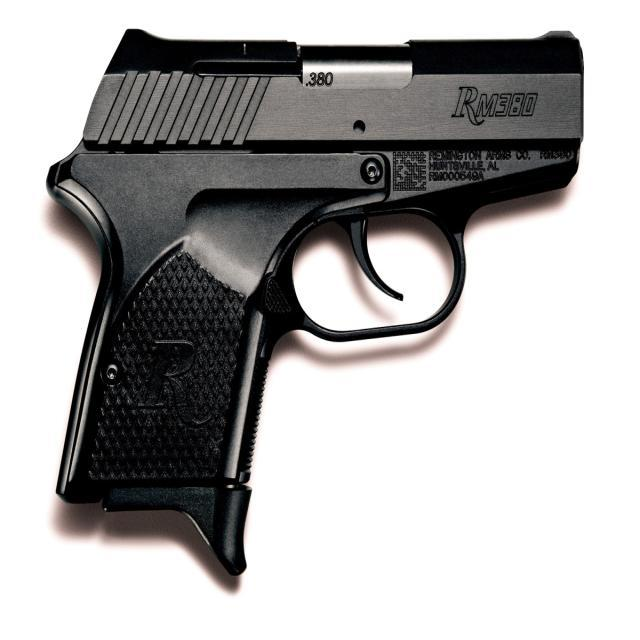Pistol: (31, 1, 599, 601)
